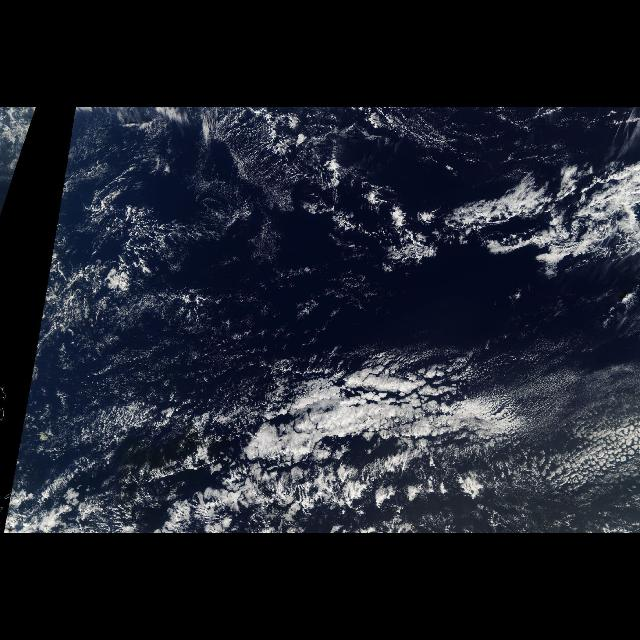Fish: (80, 333, 538, 533), (446, 146, 640, 274)
Gravel: (81, 118, 395, 372)
Sugar: (0, 107, 636, 527), (0, 109, 36, 219)
